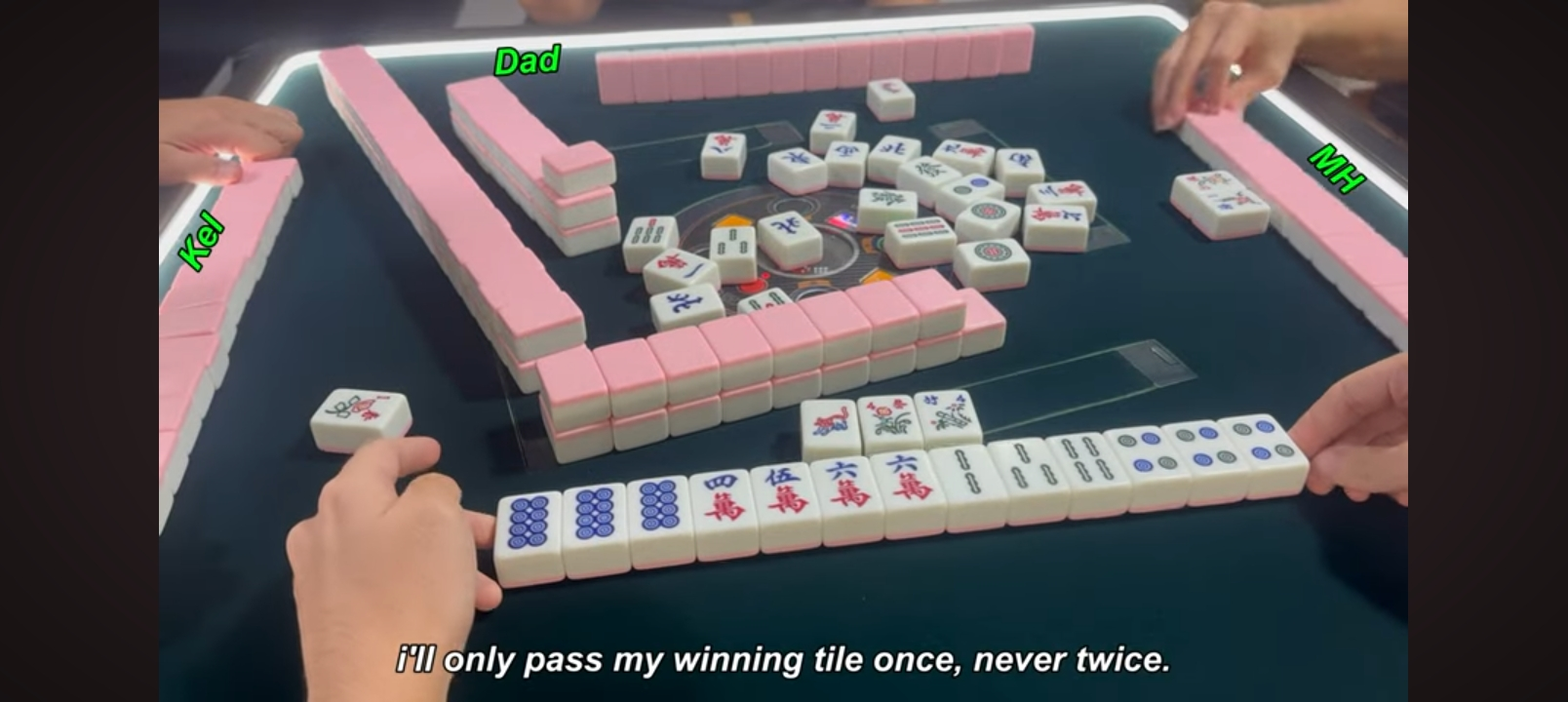TILE: (813, 456, 878, 518), (688, 470, 754, 531), (560, 485, 627, 544), (1110, 425, 1180, 481), (753, 461, 815, 524), (496, 493, 560, 554), (998, 437, 1062, 498), (626, 477, 689, 538), (877, 451, 940, 511), (1232, 414, 1300, 467), (941, 445, 1003, 502), (1057, 431, 1116, 490), (1175, 418, 1237, 474), (917, 390, 980, 438), (802, 398, 861, 446), (858, 394, 917, 442)
